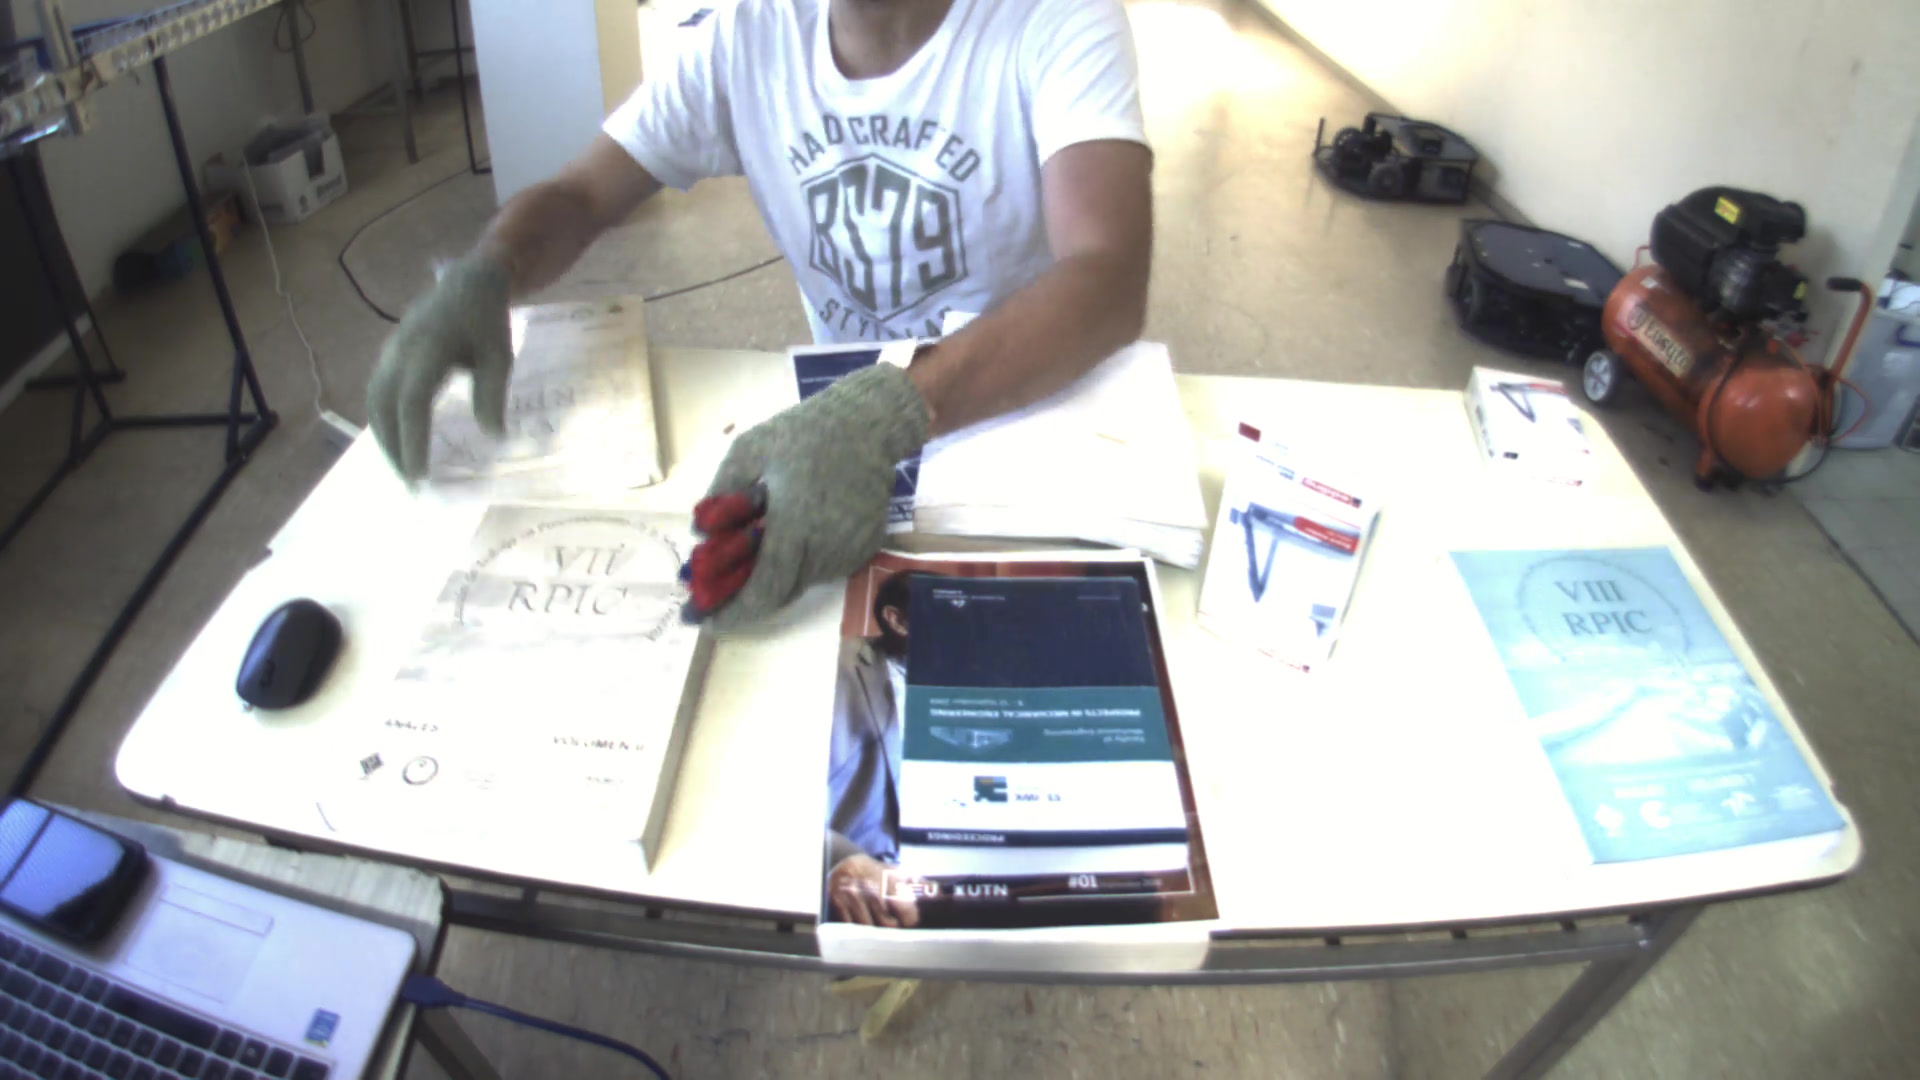hand: (667, 363, 942, 615), (353, 244, 518, 484)
